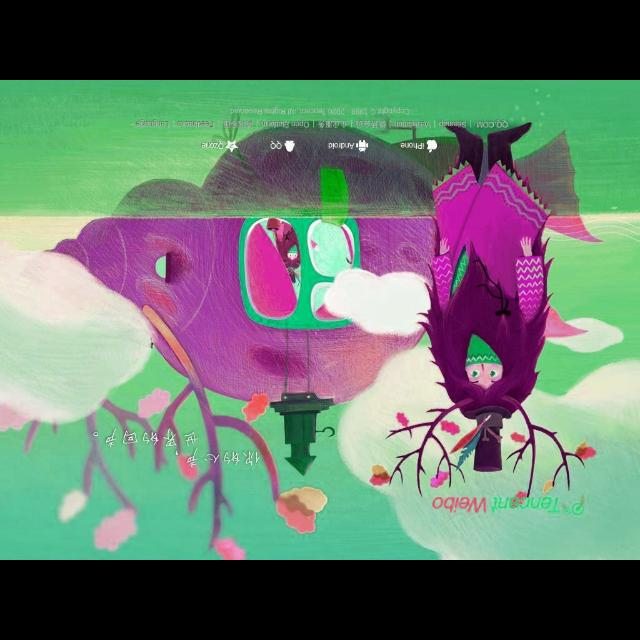backgroundimage: (2, 82, 640, 560)
image: (356, 139, 368, 153), (226, 140, 238, 152), (284, 139, 294, 151), (426, 140, 436, 152)
text: (229, 106, 411, 114), (259, 120, 309, 128), (136, 118, 170, 128), (393, 120, 431, 128), (178, 120, 215, 128), (476, 120, 508, 128), (355, 120, 387, 128), (317, 120, 348, 128), (438, 120, 466, 128), (224, 120, 252, 128), (328, 142, 354, 150), (202, 141, 224, 149), (400, 142, 424, 148), (270, 140, 282, 148)
